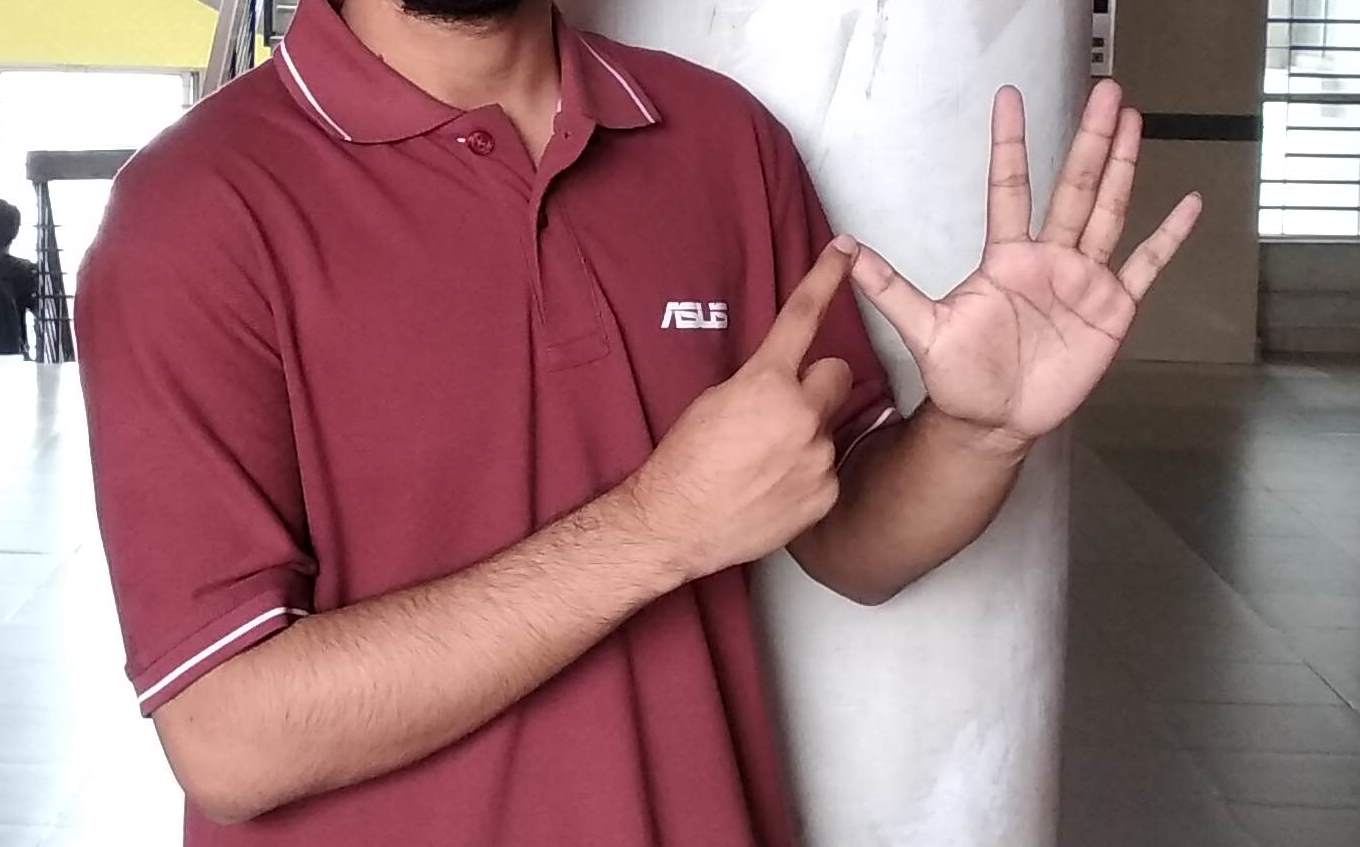a: (683, 76, 1200, 553)
